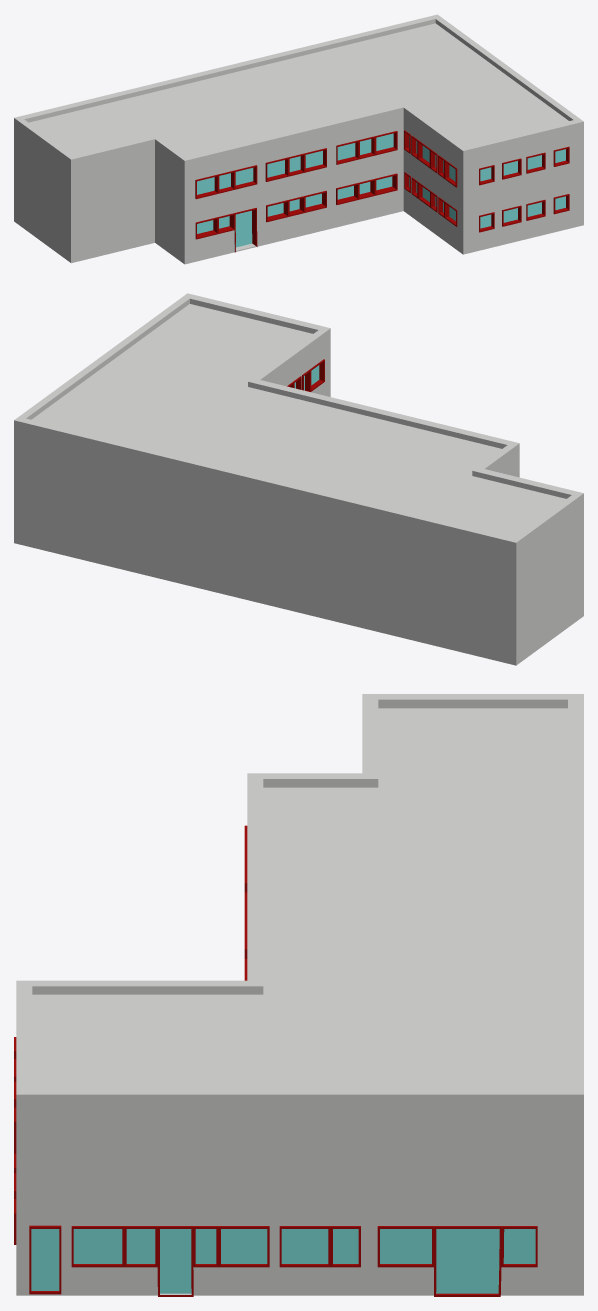
The model's file is Barbu.fbx.
The picture shows the model from 3 angles, top to bottom: view 1: azimuth 30°, elevation 25°; view 2: azimuth 150°, elevation 25°; view 3: azimuth 270°, elevation 25°; orthographic projection. The views are drawn at different scales.
Visible parts, largest first — view 1: Cube; view 2: Cube; view 3: Cube.
Boxes of the visible parts, <box> form: Cube: <box>14,14,583,264</box>; Cube: <box>14,293,583,665</box>; Cube: <box>14,694,583,1296</box>.
Bounding box in the file's own units: 5076 × 1183 × 3041.
